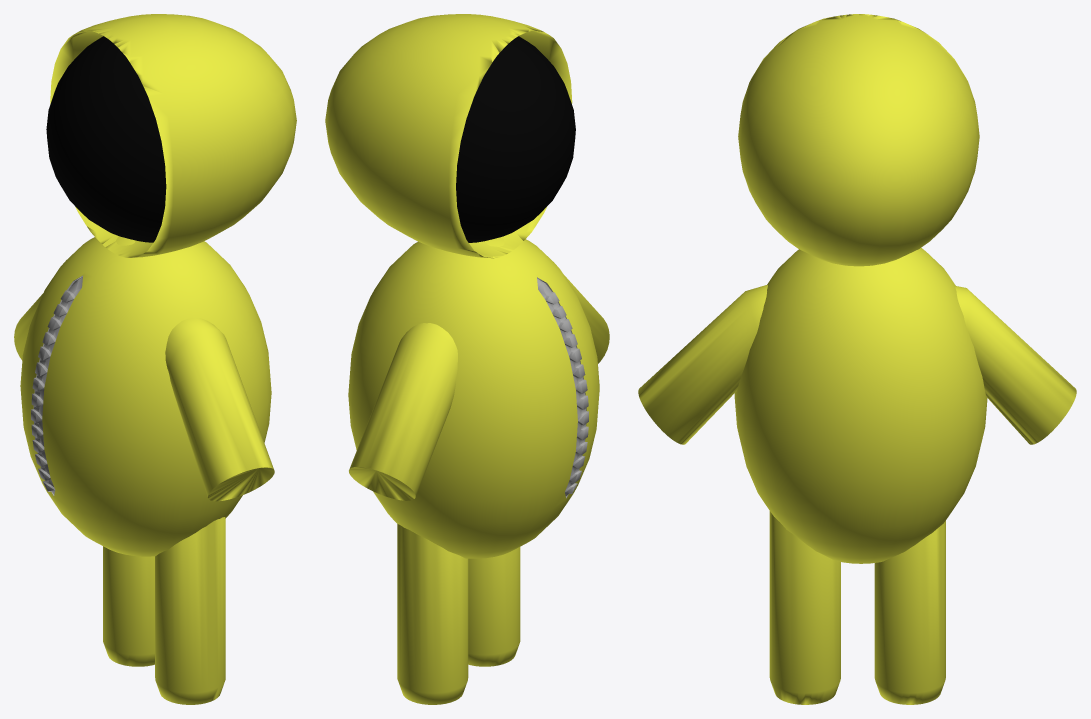
Rendered from character.fbx.
3 views of the same model, side by side, from view 1: azimuth 30°, elevation 25°; view 2: azimuth 150°, elevation 25°; view 3: azimuth 270°, elevation 25° (orthographic).
Parts seen in each view (by area): view 1: Sphere; view 2: Sphere; view 3: Sphere.
Part boxes in pixels (left/top/right/bottom): Sphere: left=14, top=14, right=296, bottom=704; Sphere: left=325, top=14, right=609, bottom=704; Sphere: left=638, top=14, right=1076, bottom=704.
Bounding box in the file's own units: 240 × 598 × 363.
